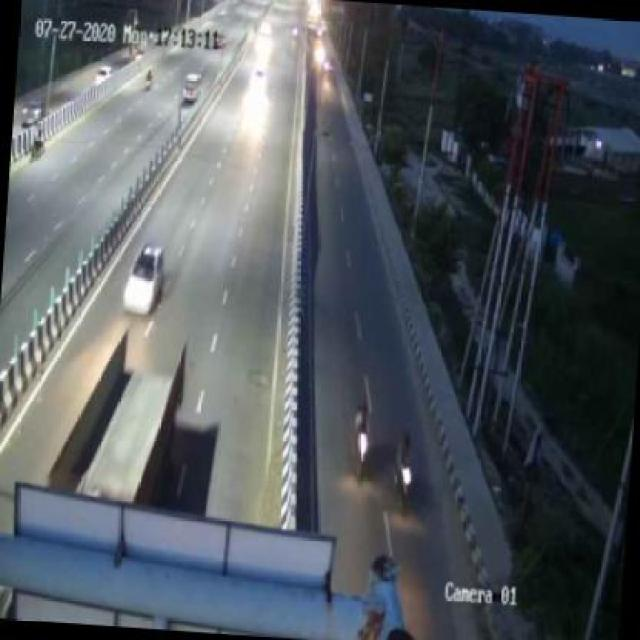car: (118, 238, 171, 320)
